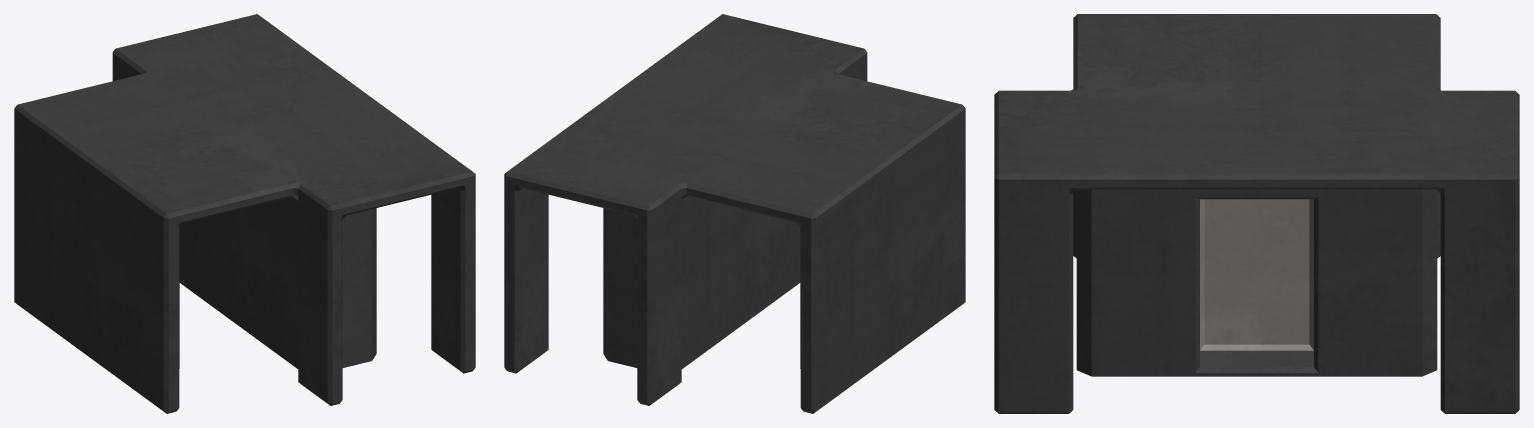
File: Lobby.fbx
The picture shows the model from 3 angles, left to right: view 1: azimuth 30°, elevation 25°; view 2: azimuth 150°, elevation 25°; view 3: azimuth 270°, elevation 25°; orthographic projection. The views are drawn at different scales.
Parts seen in each view (by area): view 1: entrance; view 2: entrance; view 3: entrance.
Boxes of the visible parts, left/top/right/bottom form: entrance: left=14, top=14, right=475, bottom=413; entrance: left=504, top=14, right=965, bottom=413; entrance: left=994, top=14, right=1519, bottom=413.
Size of the model in its own units: 8.05 by 5.52 by 10.93.
